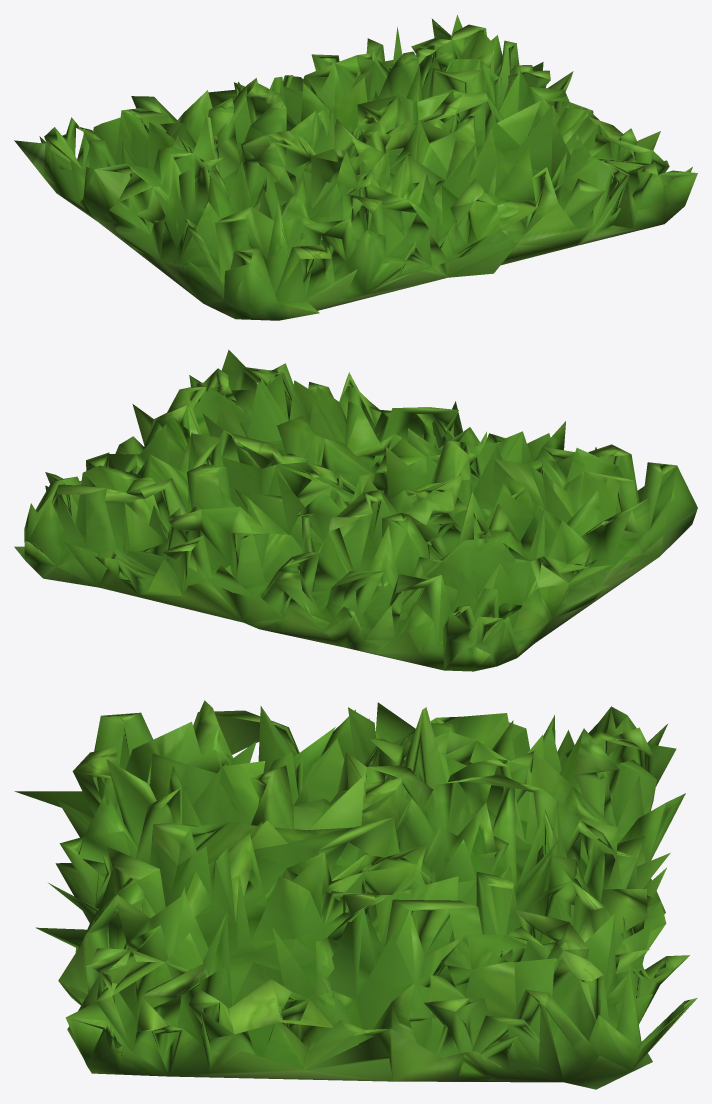
The model's file is gnd_temperate_grass_bed.fbx.
3 views of the same model, one above another, from view 1: azimuth 30°, elevation 25°; view 2: azimuth 150°, elevation 25°; view 3: azimuth 270°, elevation 25° (orthographic). The views are drawn at different scales.
Visible parts, largest first — view 1: gnd_temperate_grass_bed_LOD0; view 2: gnd_temperate_grass_bed_LOD0; view 3: gnd_temperate_grass_bed_LOD0.
Boxes of the visible parts, x1,y1,x2,y2 form: gnd_temperate_grass_bed_LOD0: (14, 15, 697, 320); gnd_temperate_grass_bed_LOD0: (14, 350, 697, 671); gnd_temperate_grass_bed_LOD0: (14, 700, 697, 1089).
Size of what is drawn, in the model's own units: 0.9618 by 0.1931 by 0.8209.
